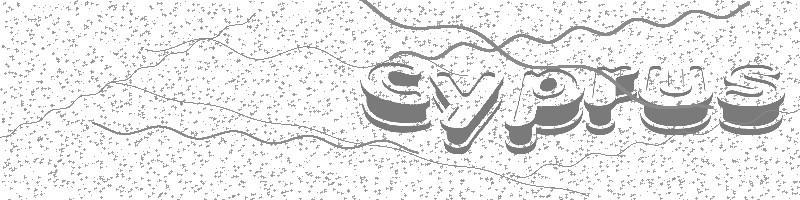c: (351, 52, 435, 140)
p: (505, 64, 584, 162)
r: (582, 56, 636, 138)
s: (721, 54, 786, 138)
u: (641, 59, 714, 137)
y: (427, 67, 504, 163)
